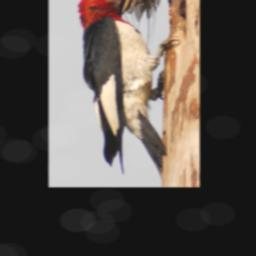Woodpecker: (78, 0, 179, 177)
